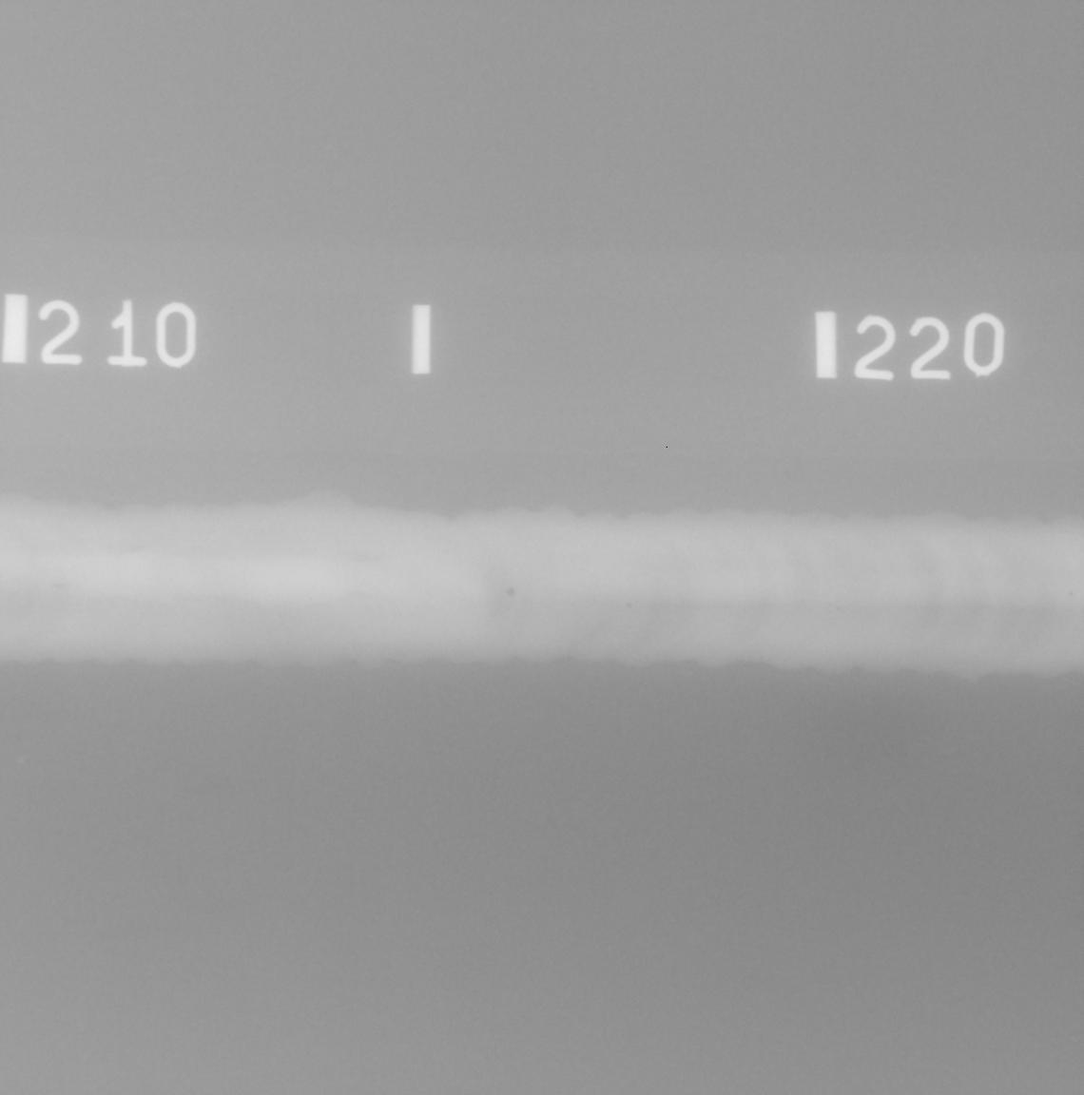Inclusion: (51, 583, 71, 592)
Pore/Porosity: (508, 588, 514, 597), (626, 603, 631, 608), (1070, 592, 1075, 596), (838, 607, 841, 610), (963, 597, 965, 601)
